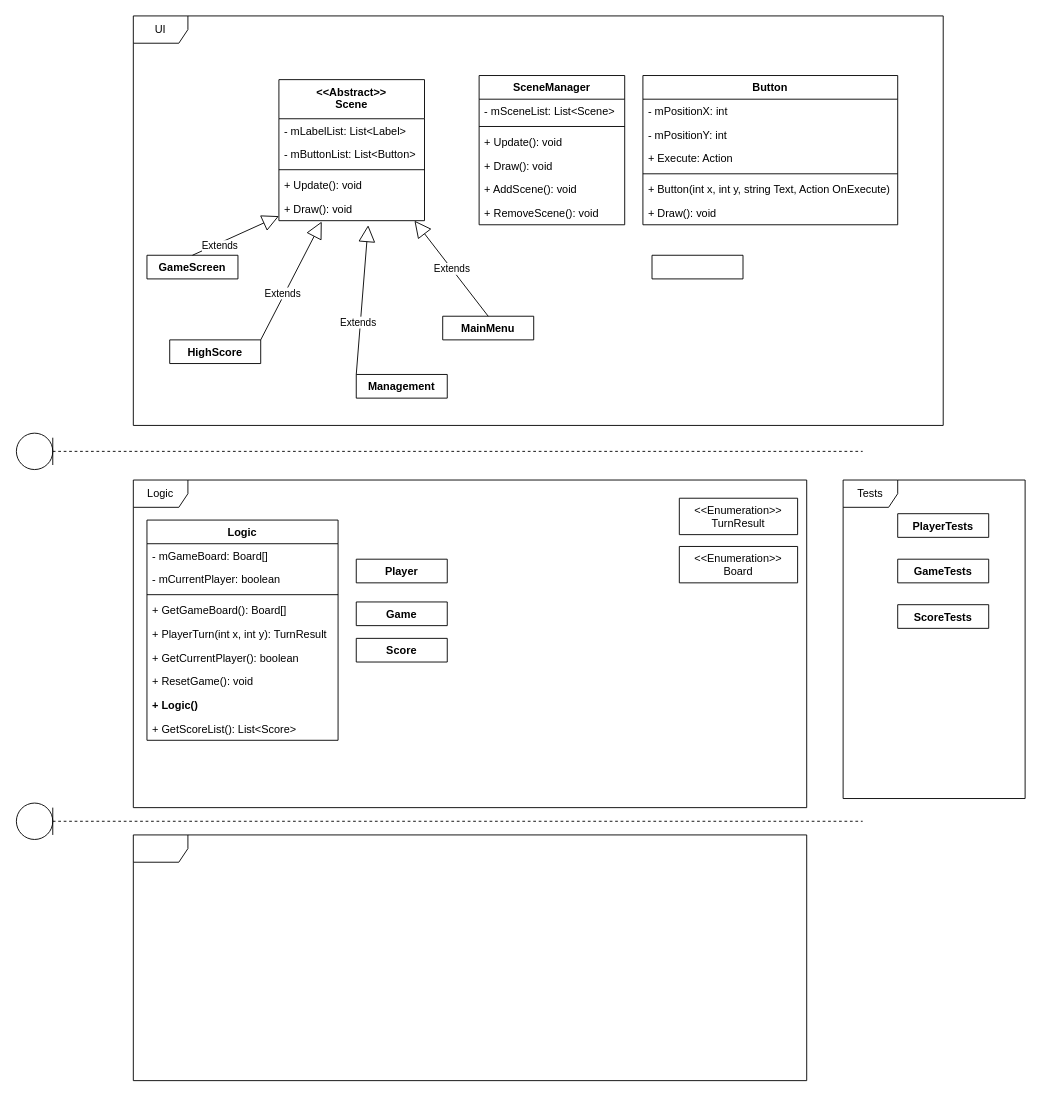
Some shapes in this 1041 by 1097 pixel diagram are drawn without their labels. The shapes that lost their labels are listed below. From the top down, each one's centre as x and y in pixels, then its label:
At point (697, 266): "Label".
At point (469, 957): "Database".
